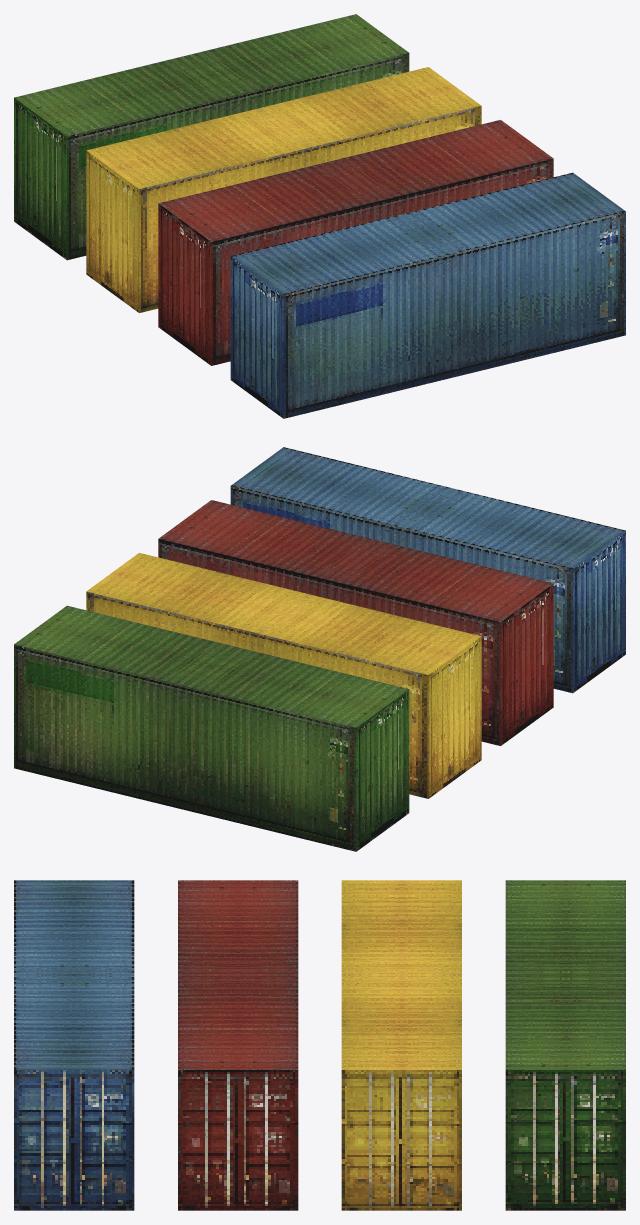
Rendered from other containers.glb.
3 views of the same model, one above another, from view 1: azimuth 30°, elevation 25°; view 2: azimuth 150°, elevation 25°; view 3: azimuth 270°, elevation 25° (orthographic). The views are drawn at different scales.
Parts seen in each view (by area): view 1: lowpoly other texture; view 2: lowpoly other texture; view 3: lowpoly other texture.
Part boxes in pixels (x1=…): lowpoly other texture: x1=14, y1=14, x2=625, y2=418; lowpoly other texture: x1=14, y1=447, x2=625, y2=851; lowpoly other texture: x1=14, y1=880, x2=625, y2=1210.
Bounding box in the file's own units: 13.69 × 4.74 × 18.67.
Materials: 4 (4 with a texture image).
